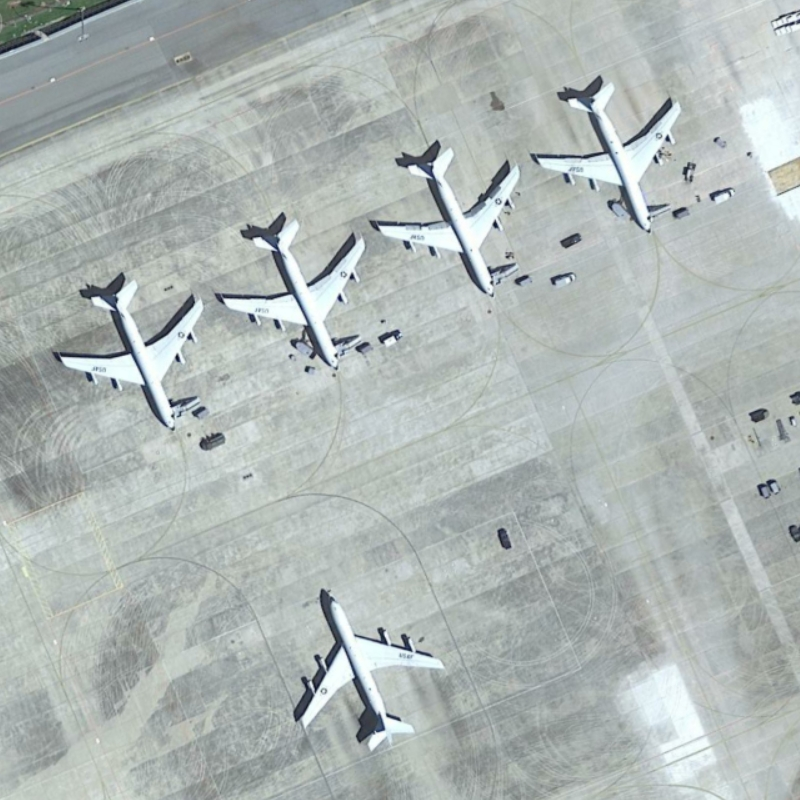A11: (290, 587, 450, 760), (215, 211, 369, 378), (50, 272, 208, 434), (529, 78, 686, 238), (372, 144, 526, 304)
